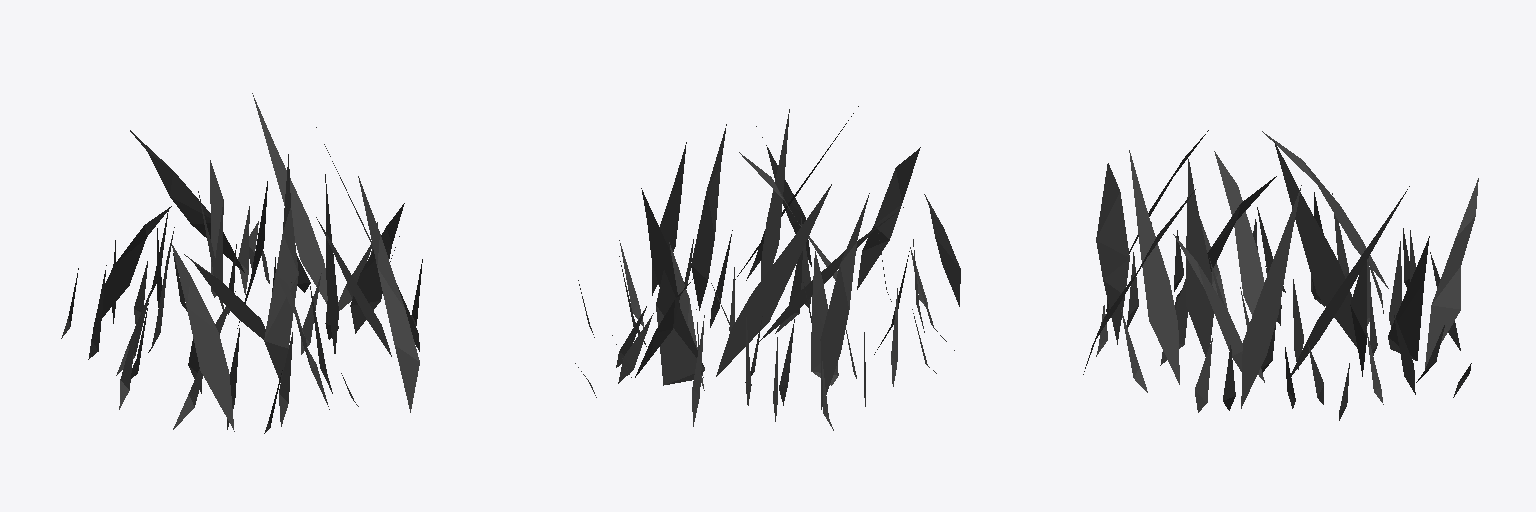
The model's file is grasspatchA-140tri.obj.
The picture shows the model from 3 angles: view 1: azimuth 30°, elevation 25°; view 2: azimuth 150°, elevation 25°; view 3: azimuth 270°, elevation 25°; orthographic projection.
Visible parts, largest first — view 1: GrassPatchB-140tri_GrassPatchB-140tri.Mesh; view 2: GrassPatchB-140tri_GrassPatchB-140tri.Mesh; view 3: GrassPatchB-140tri_GrassPatchB-140tri.Mesh.
Part boxes in pixels (bbox=[...]): GrassPatchB-140tri_GrassPatchB-140tri.Mesh: bbox=[61, 93, 422, 433]; GrassPatchB-140tri_GrassPatchB-140tri.Mesh: bbox=[575, 106, 960, 430]; GrassPatchB-140tri_GrassPatchB-140tri.Mesh: bbox=[1083, 130, 1478, 420].
Bounding box in the file's own units: 0.8384 × 0.5684 × 0.9212.